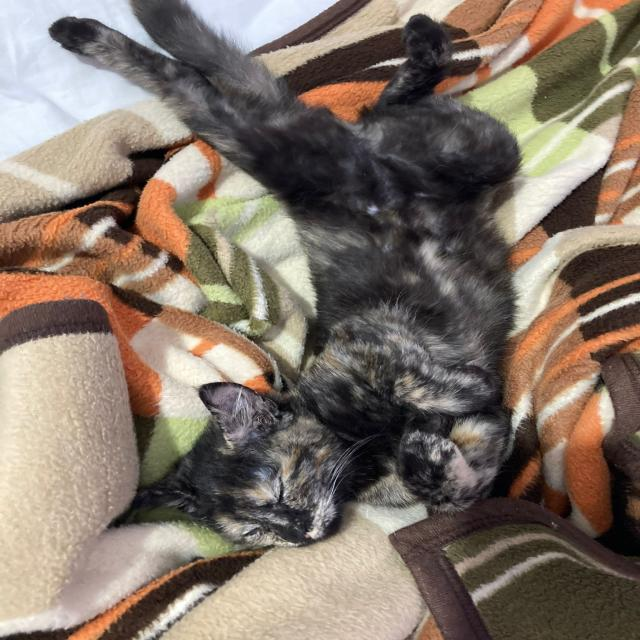authorized: (46, 1, 525, 518), (121, 380, 377, 551)
